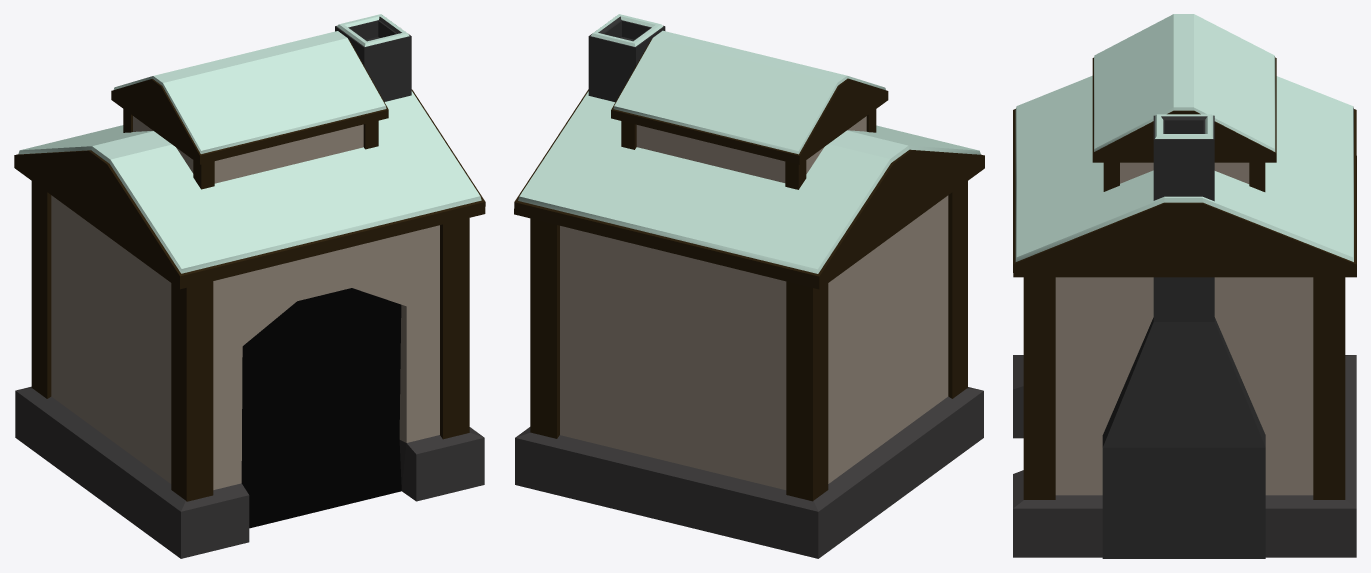
Rendered from winter-castle-v2.glb.
The picture shows the model from 3 angles, left to right: view 1: azimuth 30°, elevation 25°; view 2: azimuth 150°, elevation 25°; view 3: azimuth 270°, elevation 25°; orthographic projection. The views are drawn at different scales.
Visible parts, largest first — view 1: WinterCastle_v2; view 2: WinterCastle_v2; view 3: WinterCastle_v2.
Part boxes in pixels (left/top/right/bottom): WinterCastle_v2: left=14, top=14, right=485, bottom=558; WinterCastle_v2: left=514, top=14, right=984, bottom=558; WinterCastle_v2: left=1013, top=14, right=1356, bottom=558.
Bounding box in the file's own units: 613 × 755 × 560.
Materials: 1 (1 with a texture image).
